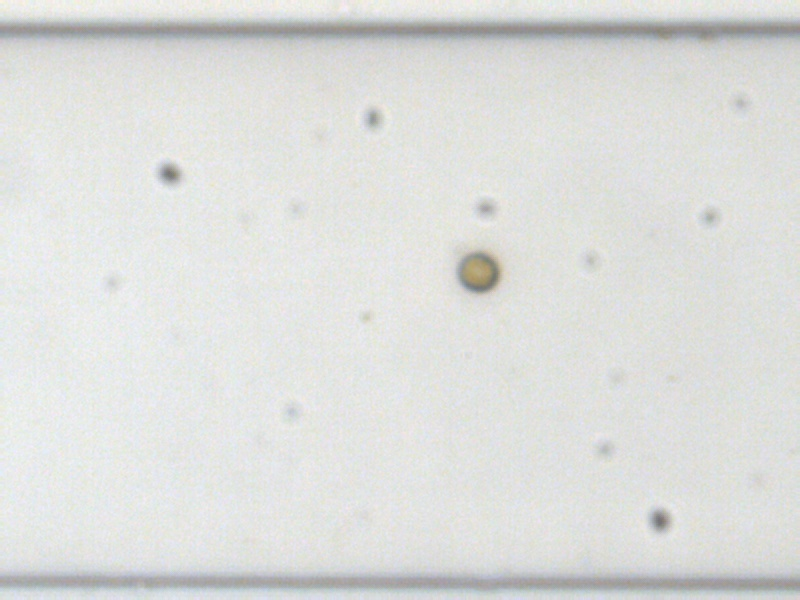Effrenium: (454, 249, 500, 291)
